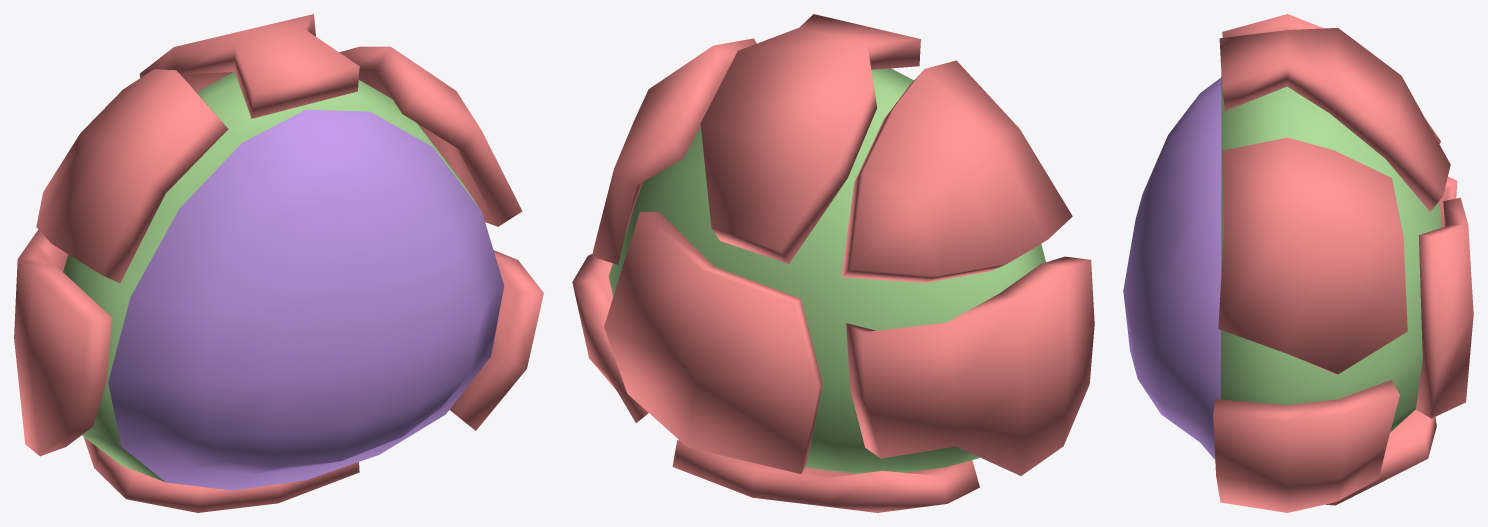
Rendered from unit_stone.fbx.
The picture shows the model from 3 angles, left to right: view 1: azimuth 30°, elevation 25°; view 2: azimuth 150°, elevation 25°; view 3: azimuth 270°, elevation 25°; orthographic projection. The views are drawn at different scales.
Visible parts, largest first — view 1: Object002; view 2: Object002; view 3: Object002.
Boxes of the visible parts, left/top/right/bottom form: Object002: left=14, top=14, right=543, bottom=512; Object002: left=572, top=14, right=1094, bottom=512; Object002: left=1123, top=14, right=1473, bottom=512.
Size of the model in its own units: 31.57 by 28.28 by 21.14.
